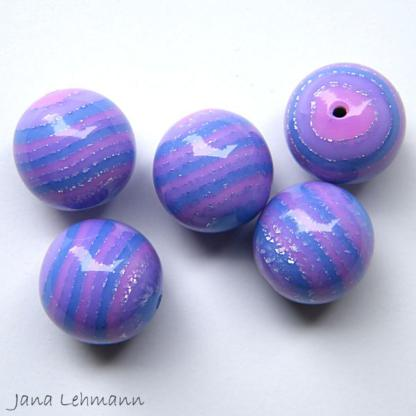Ball: (35, 220, 166, 346), (152, 108, 274, 235), (12, 86, 134, 210), (258, 178, 374, 305), (284, 60, 402, 184)
